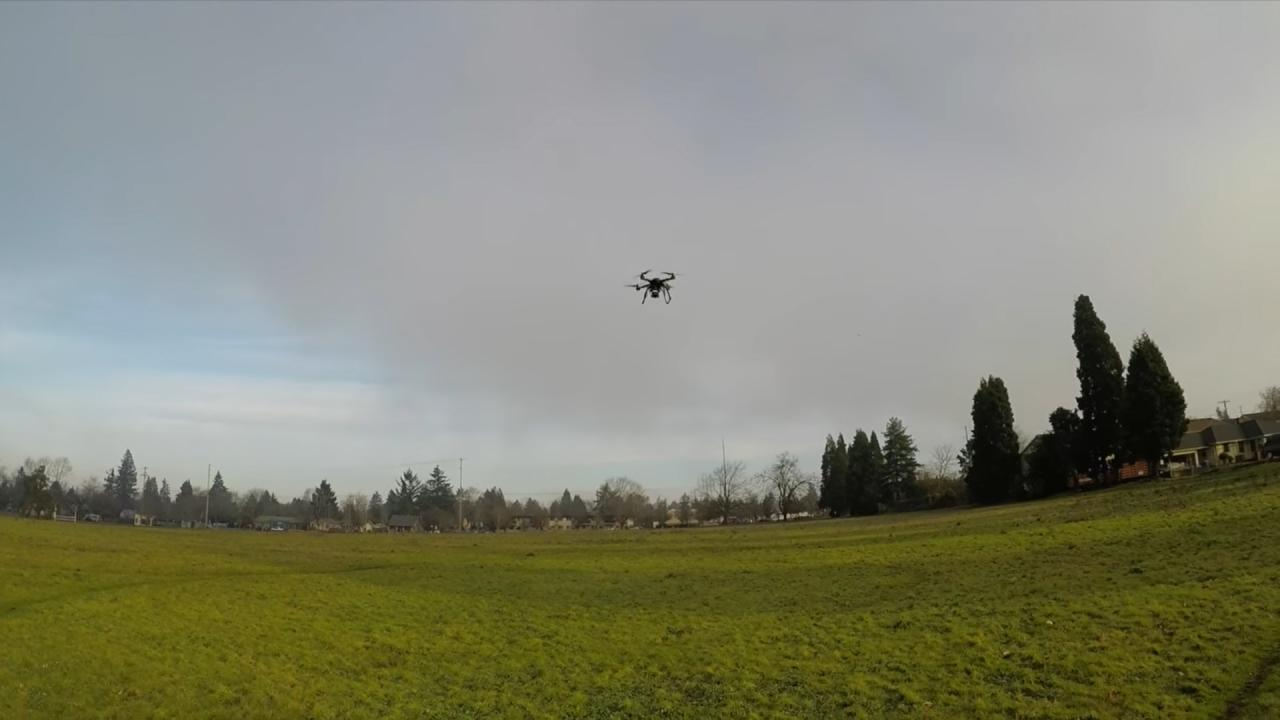Drone: (619, 260, 689, 312)
